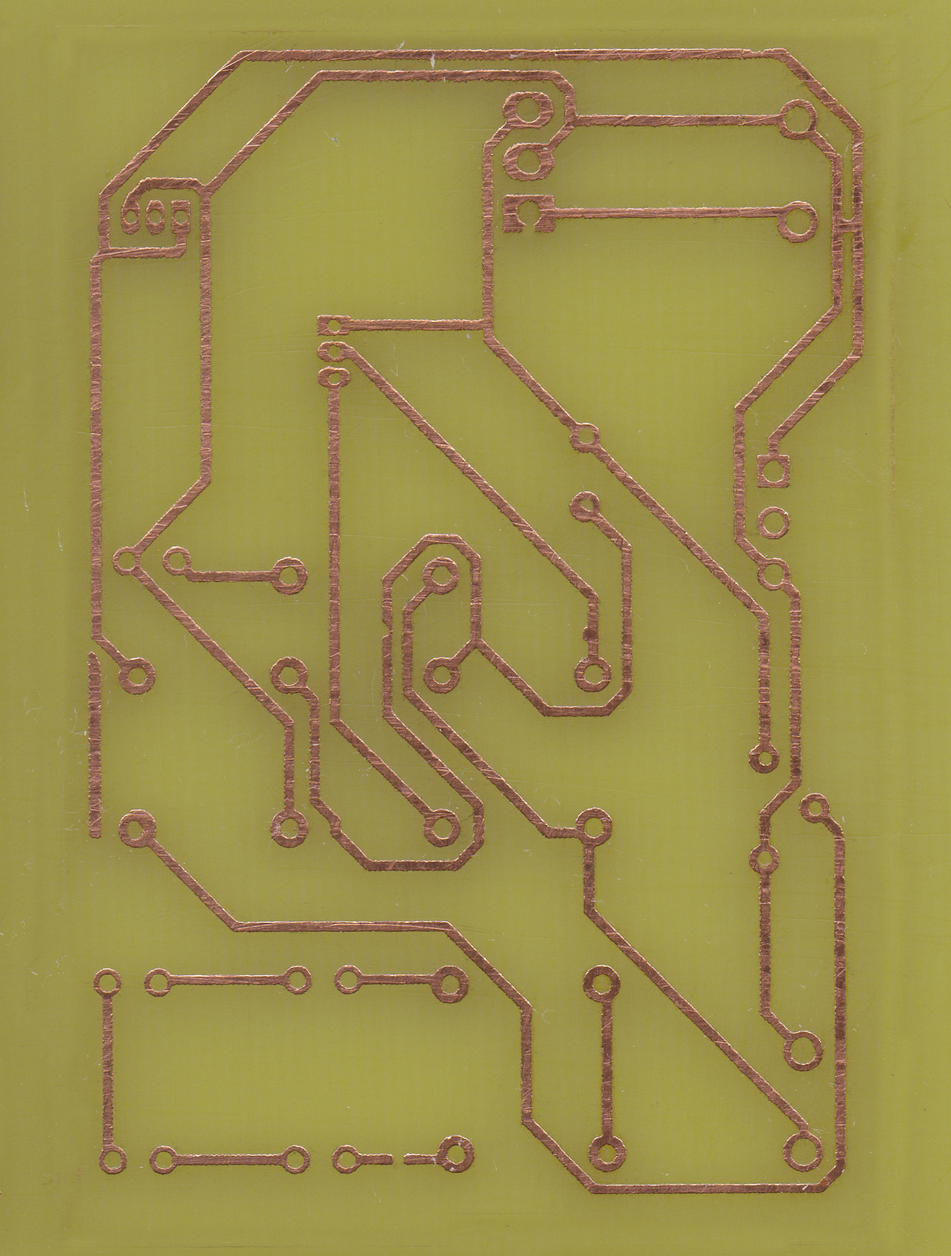missing_hole: (499, 188, 559, 239)
mouse_bite: (376, 608, 398, 646)
open_circuit: (384, 1143, 415, 1173)
short: (828, 212, 870, 240)
spur: (578, 621, 603, 652)
spurious_copper: (81, 646, 107, 846)
